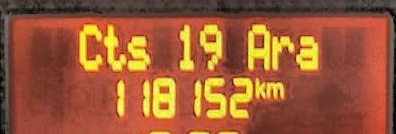1: (177, 21, 194, 72), (113, 76, 126, 118), (140, 75, 150, 119), (192, 74, 201, 118)
2: (230, 74, 253, 119)
5: (204, 74, 227, 118)
8: (152, 75, 177, 119)
9: (197, 20, 223, 70)
X: (78, 21, 102, 72), (246, 20, 270, 70), (102, 22, 125, 74), (125, 32, 151, 71), (294, 32, 319, 70), (271, 31, 292, 69), (266, 79, 285, 100), (254, 74, 266, 101)
